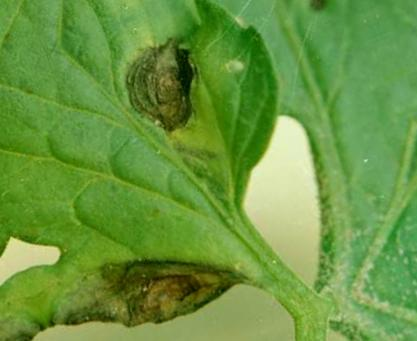Tomato leaf late blight: (0, 0, 400, 341)
